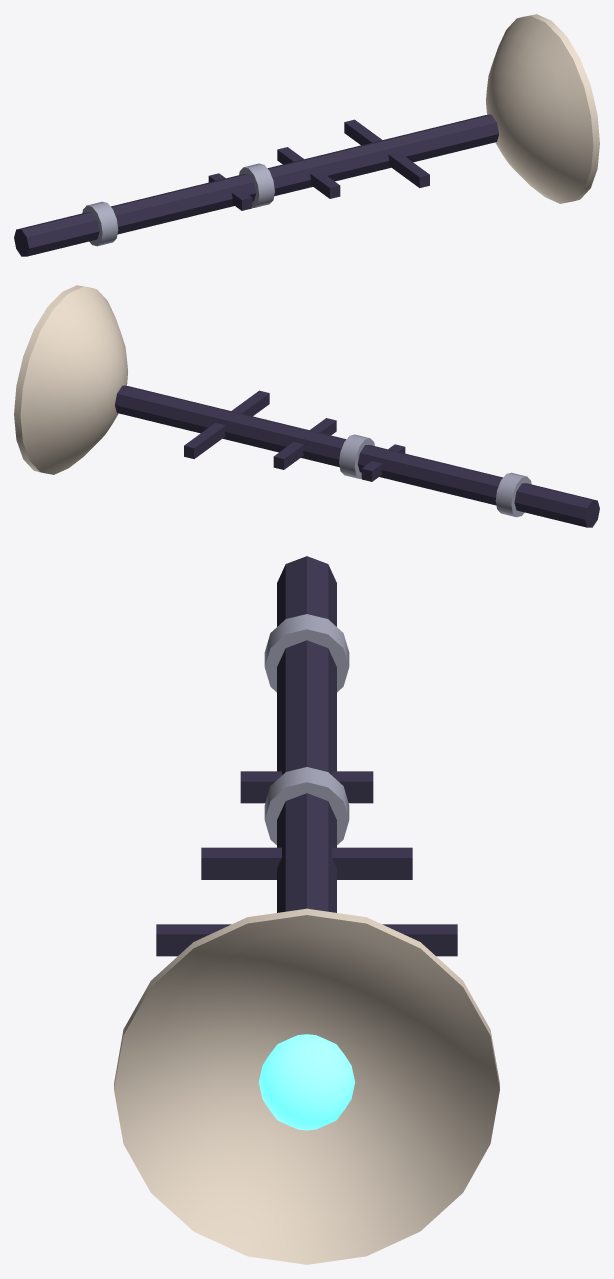
File: part_antenna.glb
3 views of the same model, one above another, from view 1: azimuth 30°, elevation 25°; view 2: azimuth 150°, elevation 25°; view 3: azimuth 270°, elevation 25° (orthographic). The views are drawn at different scales.
Visible parts, largest first — view 1: part_antenna; view 2: part_antenna; view 3: part_antenna.
Part boxes in pixels (x1=…): part_antenna: x1=14, y1=14, x2=599, y2=256; part_antenna: x1=14, y1=285, x2=599, y2=527; part_antenna: x1=114, y1=556, x2=499, y2=1264.
Bounding box in the file's own units: 2.08 × 0.64 × 0.64.
